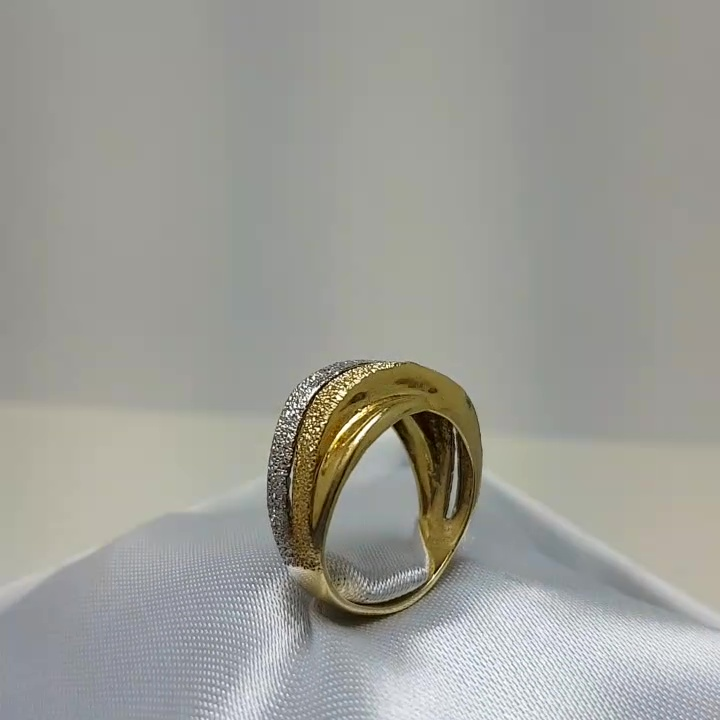Ring 5: (248, 335, 504, 629)
